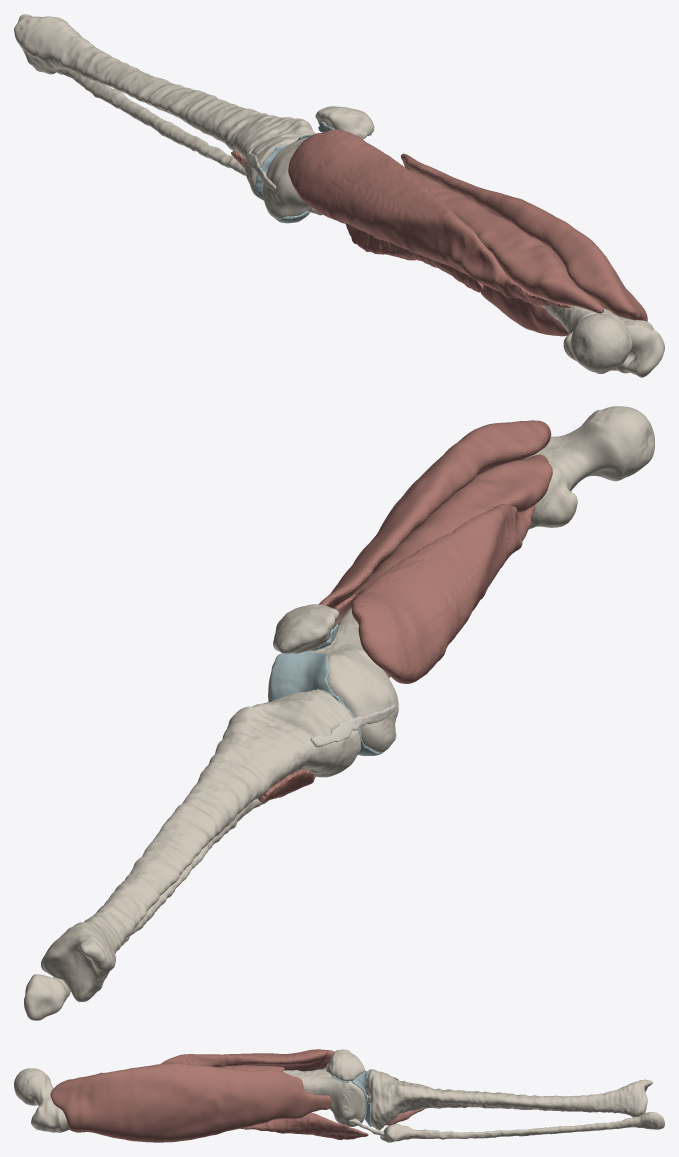
File: vhf-right-knee-source.glb
3 renders of one model, top to bottom at view 1: azimuth 30°, elevation 25°; view 2: azimuth 150°, elevation 25°; view 3: azimuth 270°, elevation 25°, orthographic. The views are drawn at different scales.
Visible parts, largest first — view 1: vhf-right-muscle-vastusmedialis, vhf-right-bone-tibia, vhf-right-muscle-vastusintermedius, vhf-right-bone-femur, vhf-right-muscle-vastuslateralis, vhf-right-bone-fibula, vhf-right-muscle-bicepsfemorisshorthead, vhf-right-bone-patella; view 2: vhf-right-bone-tibia, vhf-right-muscle-vastusmedialis, vhf-right-bone-femur, vhf-right-muscle-vastuslateralis, vhf-right-muscle-vastusintermedius, vhf-right-bone-fibula, vhf-right-cartilage-femurdistal, vhf-right-bone-patella, vhf-right-ligament-mcl; view 3: vhf-right-muscle-vastuslateralis, vhf-right-bone-tibia, vhf-right-bone-femur, vhf-right-bone-fibula, vhf-right-muscle-vastusmedialis, vhf-right-muscle-bicepsfemorisshorthead, vhf-right-bone-patella, vhf-right-muscle-vastusintermedius, vhf-right-cartilage-femurdistal, vhf-right-muscle-popliteus, vhf-right-ligament-lcl.
Boxes of the visible parts, bbox=[...] form: vhf-right-muscle-vastusmedialis: bbox=[288, 129, 570, 307]; vhf-right-bone-tibia: bbox=[14, 14, 315, 200]; vhf-right-muscle-vastusintermedius: bbox=[409, 170, 603, 336]; vhf-right-bone-femur: bbox=[263, 137, 664, 377]; vhf-right-muscle-vastuslateralis: bbox=[400, 153, 647, 321]; vhf-right-bone-fibula: bbox=[57, 69, 322, 215]; vhf-right-muscle-bicepsfemorisshorthead: bbox=[345, 224, 483, 292]; vhf-right-bone-patella: bbox=[315, 106, 374, 139]; vhf-right-bone-tibia: bbox=[41, 690, 360, 1001]; vhf-right-muscle-vastusmedialis: bbox=[351, 503, 535, 683]; vhf-right-bone-femur: bbox=[268, 406, 654, 752]; vhf-right-muscle-vastuslateralis: bbox=[319, 420, 551, 608]; vhf-right-muscle-vastusintermedius: bbox=[334, 454, 552, 624]; vhf-right-bone-fibula: bbox=[24, 799, 267, 1020]; vhf-right-cartilage-femurdistal: bbox=[270, 651, 396, 755]; vhf-right-bone-patella: bbox=[273, 604, 339, 653]; vhf-right-ligament-mcl: bbox=[310, 704, 395, 747]; vhf-right-muscle-vastuslateralis: bbox=[50, 1063, 331, 1142]; vhf-right-bone-tibia: bbox=[365, 1069, 652, 1130]; vhf-right-bone-femur: bbox=[14, 1067, 365, 1132]; vhf-right-bone-fibula: bbox=[380, 1112, 664, 1142]; vhf-right-muscle-vastusmedialis: bbox=[161, 1049, 334, 1071]; vhf-right-muscle-bicepsfemorisshorthead: bbox=[237, 1112, 368, 1139]; vhf-right-bone-patella: bbox=[326, 1049, 364, 1081]; vhf-right-muscle-vastusintermedius: bbox=[99, 1065, 312, 1094]; vhf-right-cartilage-femurdistal: bbox=[351, 1070, 367, 1125]; vhf-right-muscle-popliteus: bbox=[385, 1109, 424, 1125]; vhf-right-ligament-lcl: bbox=[348, 1119, 384, 1135].
Size of the model in its own units: 137 by 113 by 771.
